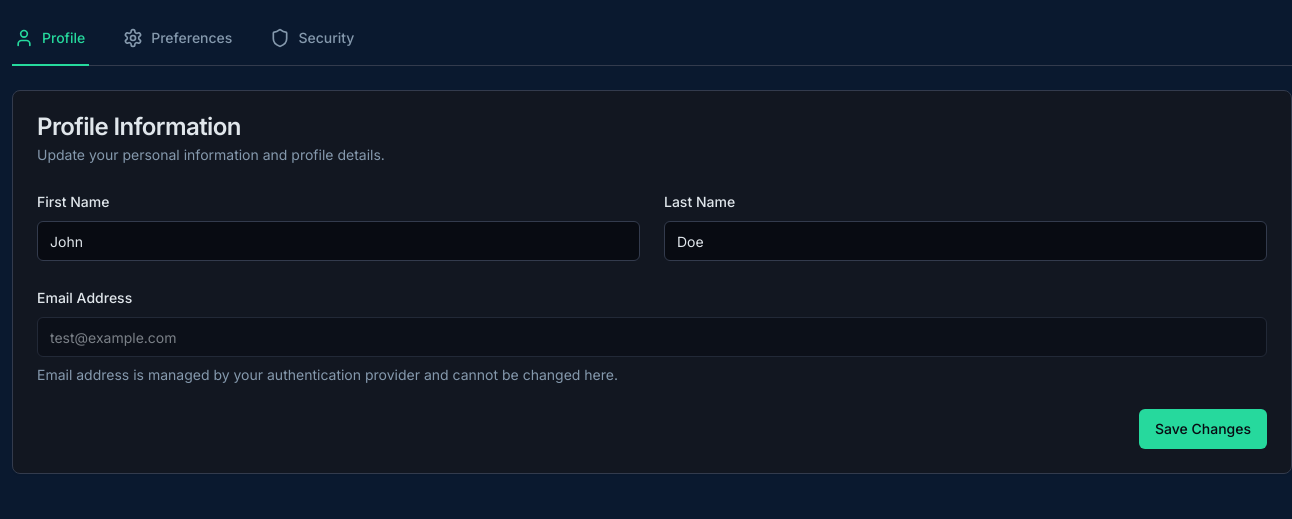
UserProfile › Profile Form › shows validation errors for empty required fields
The width and height of the screenshot is (1292, 519).
Clear the field showing "John" at (338,241), box [37,221,640,261]
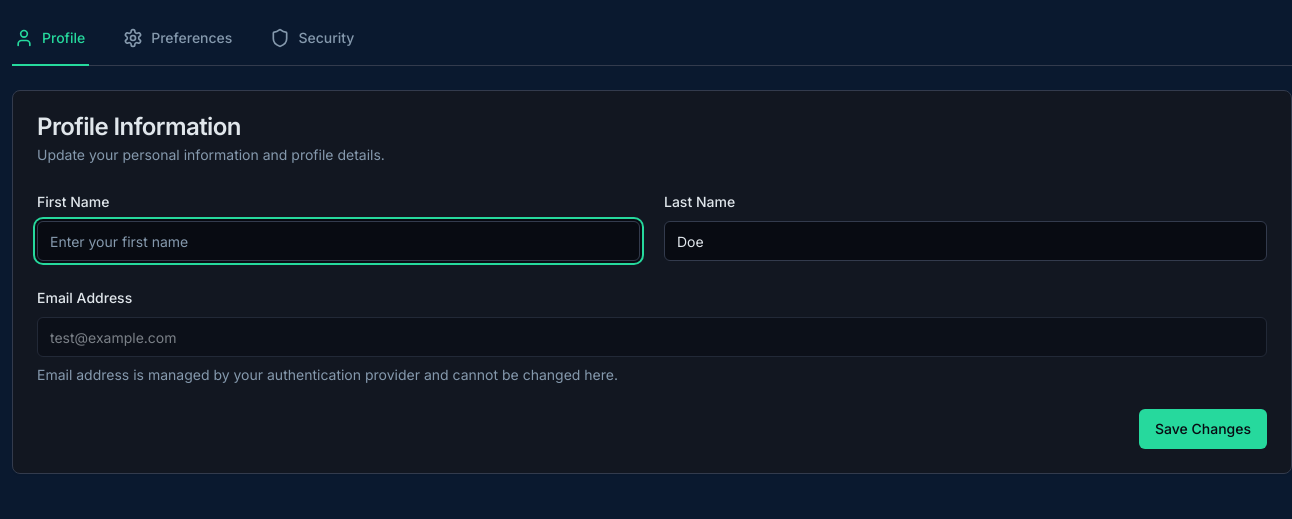
Click the button "Save Changes" at (1203,429), box [1139,409,1267,449]
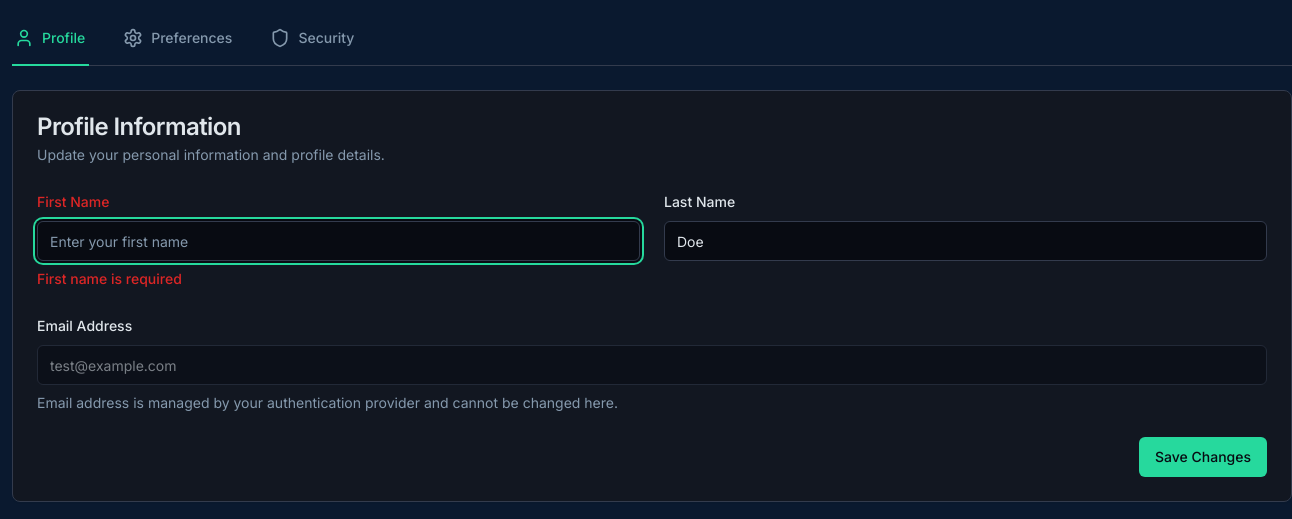
Expected: the text "First name is required" is shown, [37,270,182,287]
